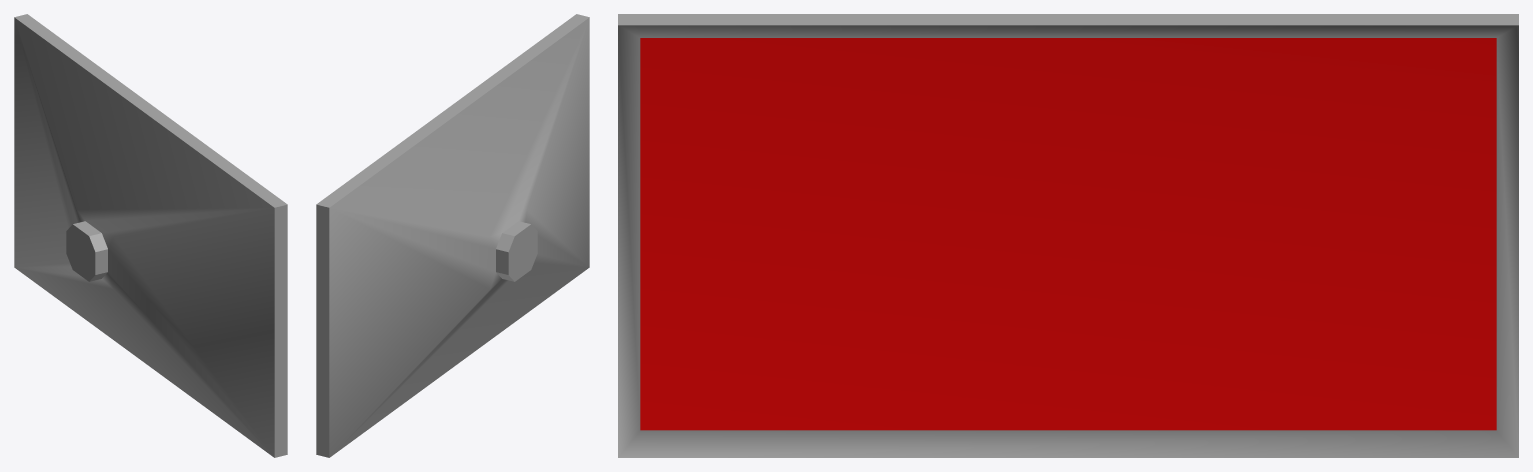
File: Monitor.fbx
3 renders of one model, left to right at view 1: azimuth 30°, elevation 25°; view 2: azimuth 150°, elevation 25°; view 3: azimuth 270°, elevation 25°, orthographic. The views are drawn at different scales.
Parts seen in each view (by area): view 1: pCube13; view 2: pCube13; view 3: pCube13.
Part boxes in pixels (x1,y1,x2,y2): pCube13: [14, 14, 287, 457]; pCube13: [316, 14, 589, 457]; pCube13: [618, 14, 1518, 457].
Size of the model in its own units: 0.3563 by 1.11 by 2.1.
